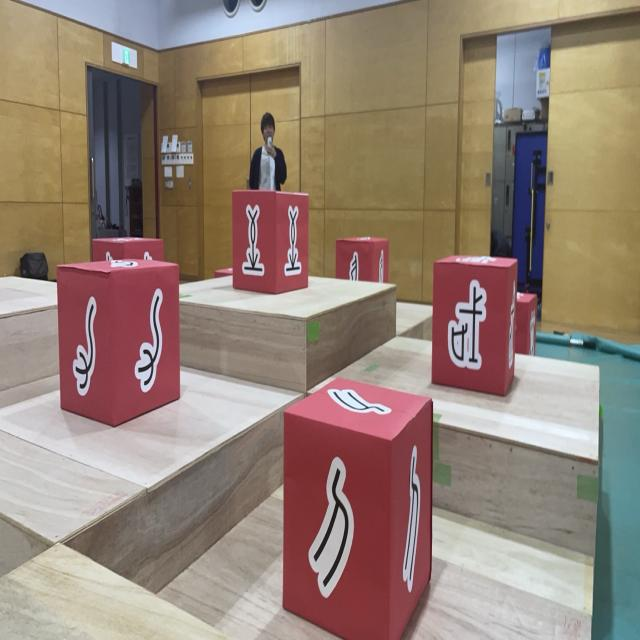10: (307, 456, 355, 598), (402, 444, 420, 592), (328, 386, 392, 416)
11: (348, 251, 358, 281), (378, 250, 384, 282)
13: (136, 287, 164, 394), (73, 294, 97, 398)
5: (448, 279, 486, 371), (508, 279, 515, 369)
6: (528, 310, 536, 356)
7: (241, 203, 264, 278), (286, 206, 302, 278)
fighter: (282, 375, 433, 640), (55, 258, 181, 428), (431, 254, 516, 396), (231, 190, 308, 294), (335, 236, 388, 285), (94, 236, 164, 264), (513, 290, 536, 357), (216, 265, 234, 274)
